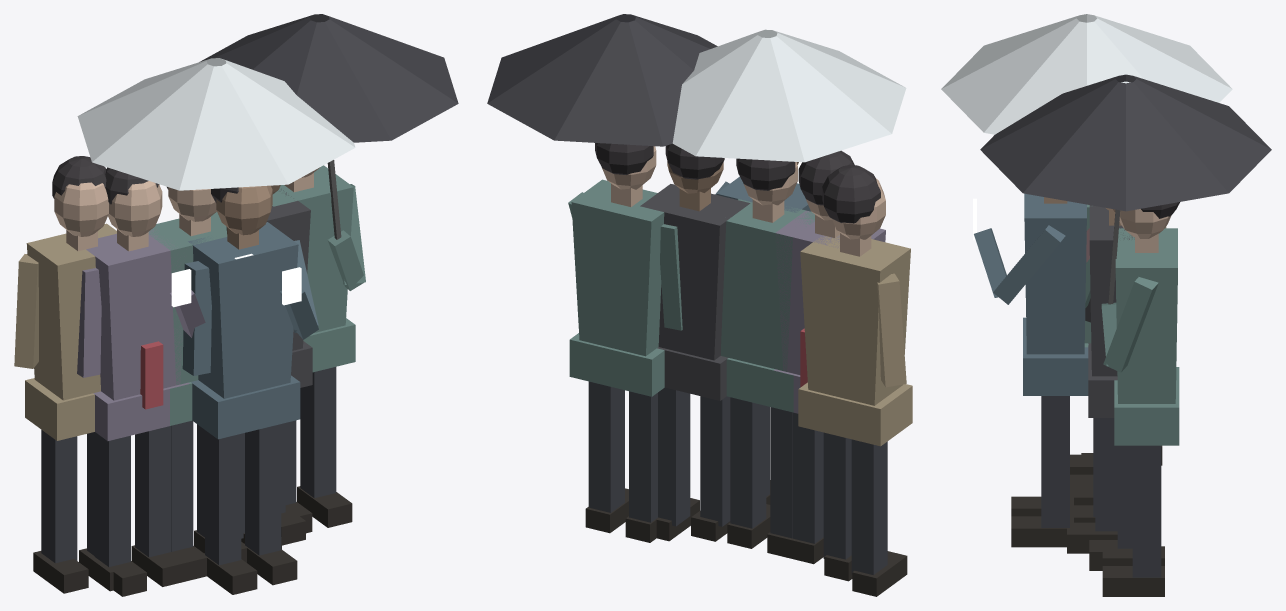
File: people93.glb
3 renders of one model, left to right at view 1: azimuth 30°, elevation 25°; view 2: azimuth 150°, elevation 25°; view 3: azimuth 270°, elevation 25°, orthographic.
Visible parts, largest first — view 1: d-canopy, i-canopy, h-coat, e-coat, g-coat, i-coat, e-leg, h-leg, h-leg.001, g-leg, h-hem, e-leg.001 (+37 smaller); view 2: d-canopy, i-canopy, g-coat, i-coat, d-coat, f-coat, g-leg, g-hem, i-leg.001, d-leg.001, f-leg.001, e-coat (+28 smaller); view 3: i-canopy, d-canopy, h-coat, i-coat, i-leg.001, h-leg.001, f-coat, i-hem, h-hem, f-leg, i-arm.001, h-arm.001 (+13 smaller).
Part boxes in pixels (bbox=[...]): d-canopy: bbox=[77, 58, 355, 190]; i-canopy: bbox=[200, 14, 458, 142]; h-coat: bbox=[188, 222, 298, 398]; e-coat: bbox=[86, 228, 186, 400]; g-coat: bbox=[26, 223, 116, 400]; i-coat: bbox=[272, 165, 353, 332]; e-leg: bbox=[94, 432, 130, 566]; h-leg: bbox=[205, 430, 241, 565]; h-leg.001: bbox=[245, 424, 281, 555]; g-leg: bbox=[41, 430, 77, 563]; h-hem: bbox=[191, 375, 300, 439]; e-leg.001: bbox=[135, 426, 170, 557]; d-canopy: bbox=[672, 29, 906, 162]; i-canopy: bbox=[487, 14, 717, 146]; g-coat: bbox=[800, 235, 910, 405]; i-coat: bbox=[571, 179, 664, 356]; d-coat: bbox=[721, 199, 814, 371]; f-coat: bbox=[640, 184, 750, 360]; g-leg: bbox=[851, 439, 887, 574]; g-hem: bbox=[798, 382, 912, 446]; i-leg.001: bbox=[588, 381, 624, 512]; d-leg.001: bbox=[730, 397, 766, 528]; f-leg.001: bbox=[658, 387, 690, 526]; e-coat: bbox=[775, 210, 885, 374]; i-canopy: bbox=[980, 74, 1271, 211]; d-canopy: bbox=[941, 14, 1232, 134]; h-coat: bbox=[1024, 193, 1086, 354]; i-coat: bbox=[1115, 228, 1177, 403]; i-leg.001: bbox=[1132, 445, 1161, 577]; h-leg.001: bbox=[1041, 396, 1069, 527]; f-coat: bbox=[1089, 205, 1134, 376]; i-hem: bbox=[1114, 367, 1179, 445]; h-hem: bbox=[1023, 317, 1088, 395]; f-leg: bbox=[1095, 418, 1117, 531]; i-arm.001: bbox=[1103, 277, 1158, 372]; h-arm.001: bbox=[993, 225, 1065, 304].
Size of the model in its own units: 1.88 by 2.15 by 1.27.
